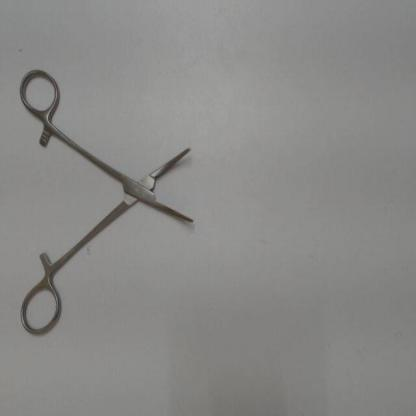Crile Artery Forceps: (19, 60, 211, 342)
